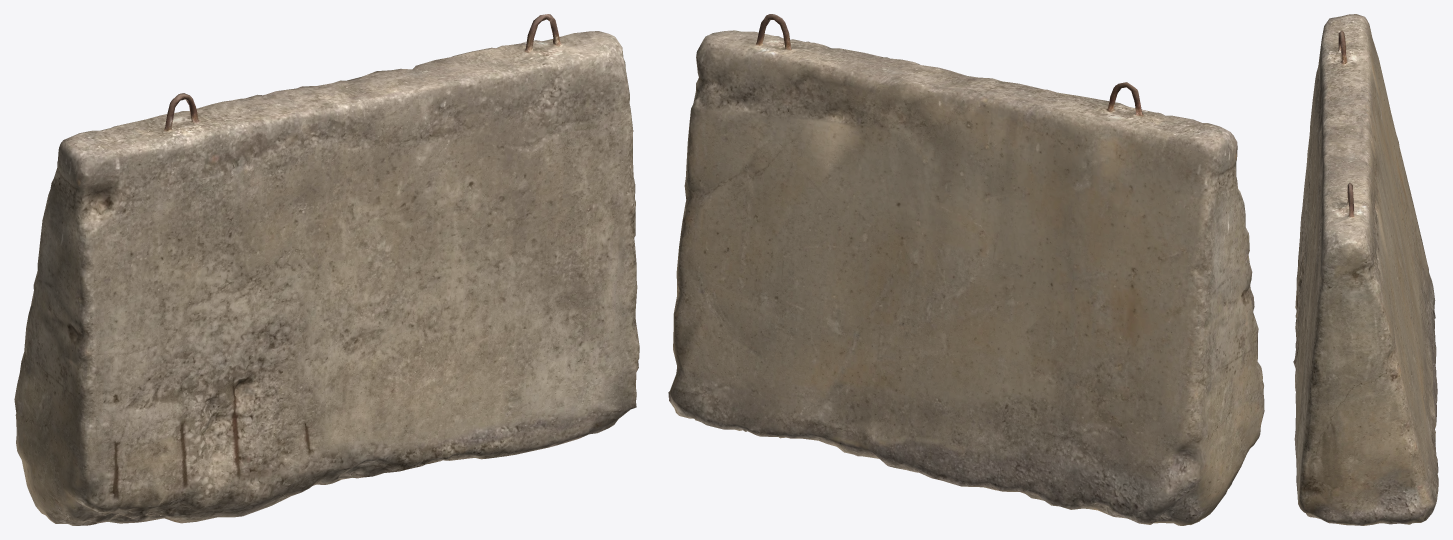
The model's file is concrete_road_barrier_02.glb.
3 views of the same model, side by side, from view 1: azimuth 30°, elevation 25°; view 2: azimuth 150°, elevation 25°; view 3: azimuth 270°, elevation 25° (orthographic). The views are drawn at different scales.
Visible parts, largest first — view 1: concrete_road_barrier_02; view 2: concrete_road_barrier_02; view 3: concrete_road_barrier_02.
Part boxes in pixels (x1,y1,x2,y2): concrete_road_barrier_02: (14, 14, 639, 525); concrete_road_barrier_02: (668, 14, 1264, 525); concrete_road_barrier_02: (1293, 14, 1438, 525).
Bounding box in the file's own units: 1.56 × 1.11 × 0.4421.
Materials: 1 (1 with a texture image).
